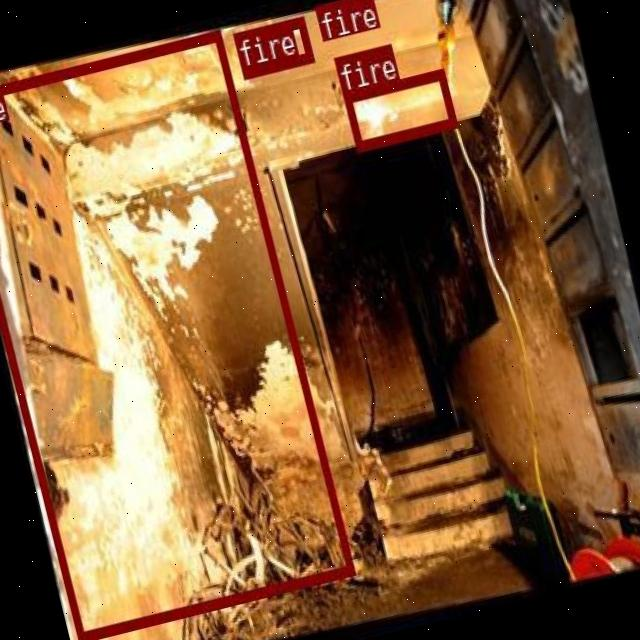fire: (0, 30, 353, 640), (342, 67, 456, 149), (230, 14, 312, 76), (313, 0, 350, 25)
